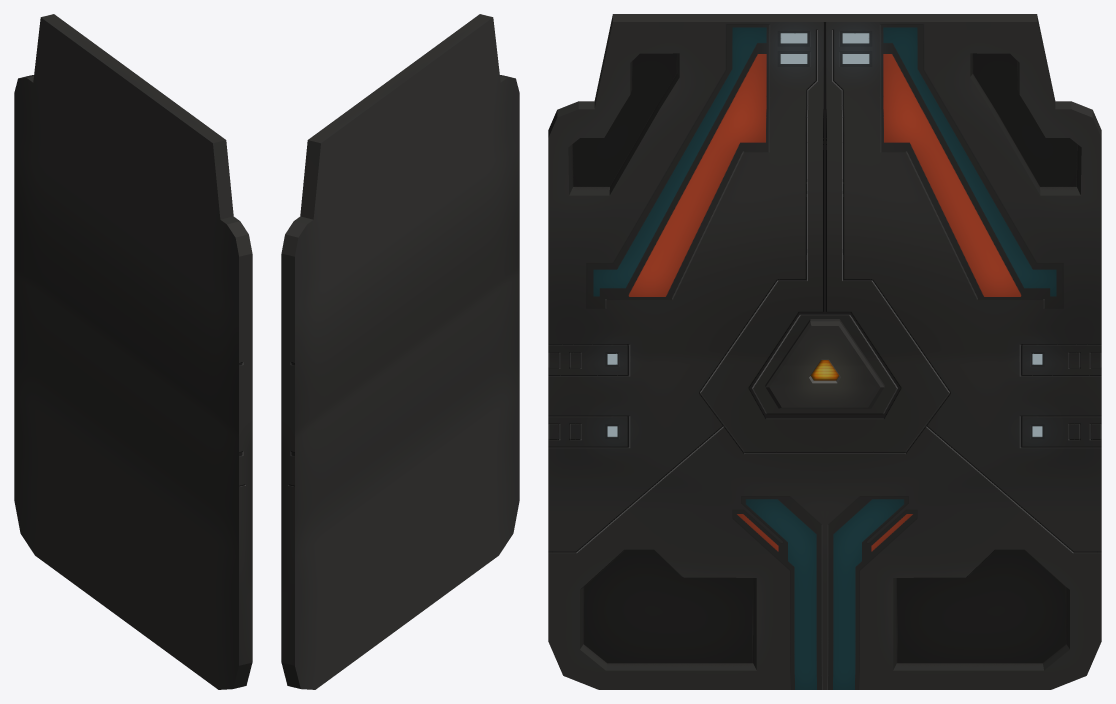
The model's file is BlastDoor.FBX.
3 views of the same model, side by side, from view 1: azimuth 30°, elevation 25°; view 2: azimuth 150°, elevation 25°; view 3: azimuth 270°, elevation 25° (orthographic). The views are drawn at different scales.
Parts seen in each view (by area): view 1: Object002; view 2: Object002; view 3: Object002.
Boxes of the visible parts, bbox=[...] form: Object002: bbox=[14, 14, 252, 689]; Object002: bbox=[281, 14, 519, 689]; Object002: bbox=[548, 14, 1101, 689].
Size of the model in its own units: 0.3752 by 10.18 by 7.64.
